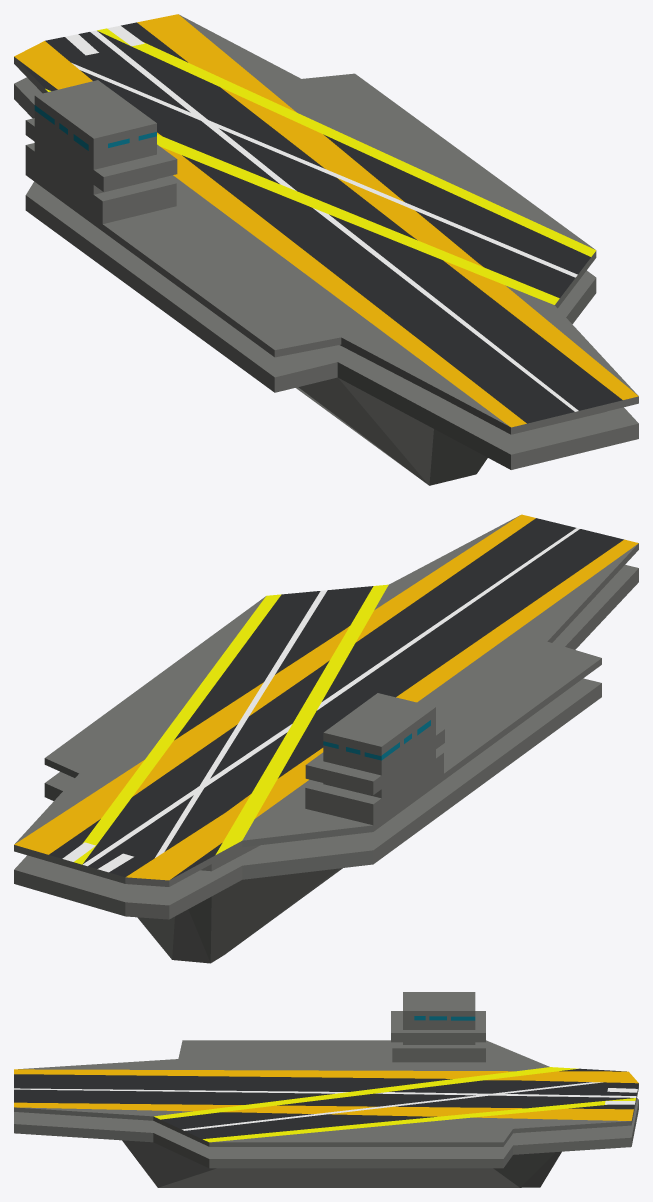
The model's file is aircraft_carrier.obj.
3 views of the same model, one above another, from view 1: azimuth 30°, elevation 25°; view 2: azimuth 150°, elevation 25°; view 3: azimuth 270°, elevation 25° (orthographic). The views are drawn at different scales.
Parts seen in each view (by area): view 1: Mesh1 Aircraft_carrier1 Model; view 2: Mesh1 Aircraft_carrier1 Model; view 3: Mesh1 Aircraft_carrier1 Model.
Boxes of the visible parts, box(x1,y1,x2,y2) form: Mesh1 Aircraft_carrier1 Model: box(14, 14, 638, 485); Mesh1 Aircraft_carrier1 Model: box(14, 514, 638, 963); Mesh1 Aircraft_carrier1 Model: box(14, 992, 638, 1187).
Bounding box in the file's own units: 338 × 222 × 875.
